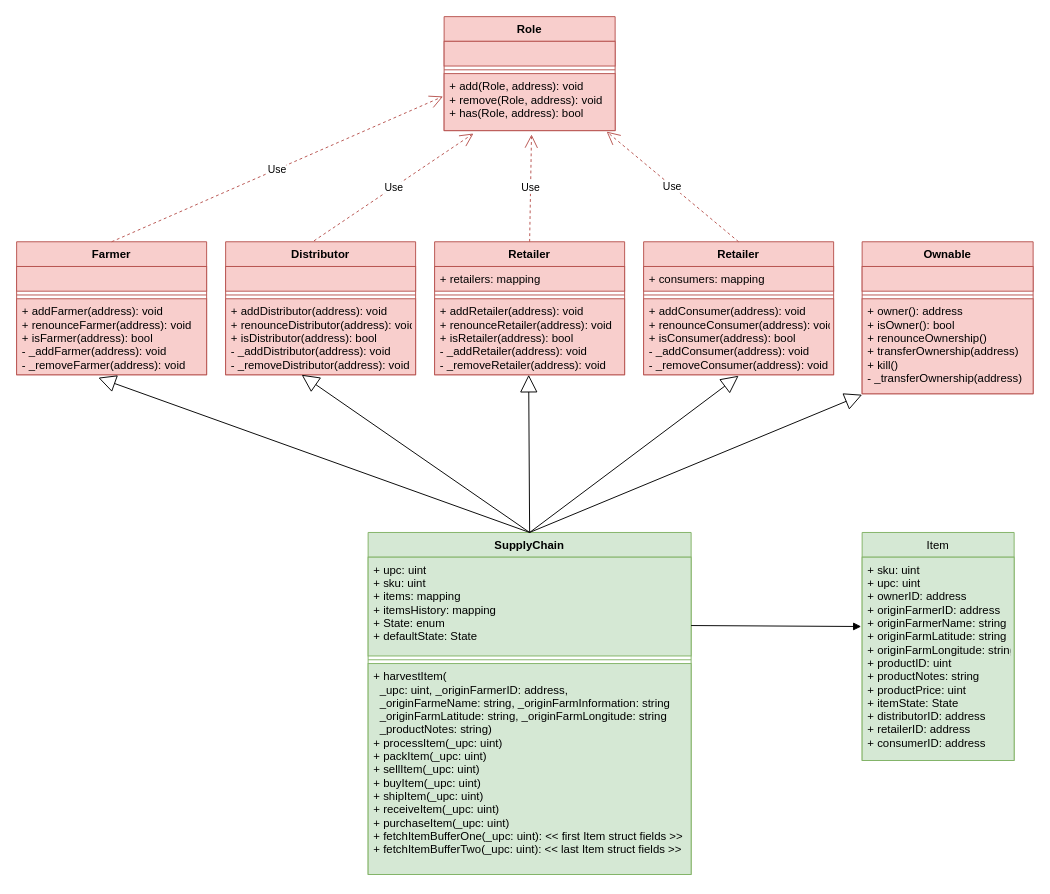
Image size: 1050x894. Some labels were removed from this diagram. Here are the shapes that lost their labels. From the top down, the centre of each, then its label:
[529,53]: + bear: mapping
[111,278]: + farmers: mapping
[320,278]: + distributors: mapping
[947,278]: + origOwner: address
